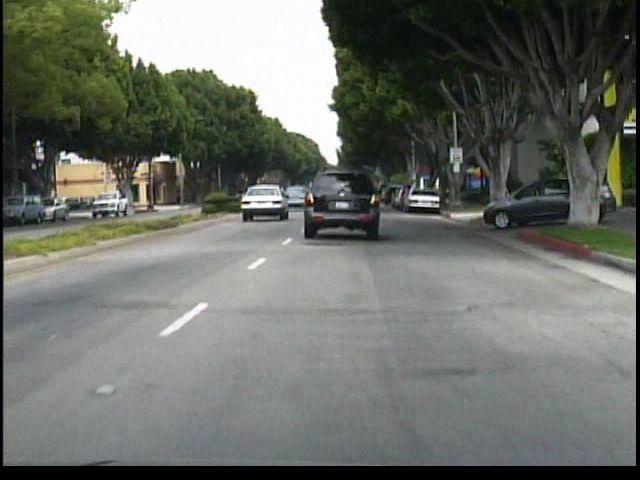person: (491, 169, 510, 210)
